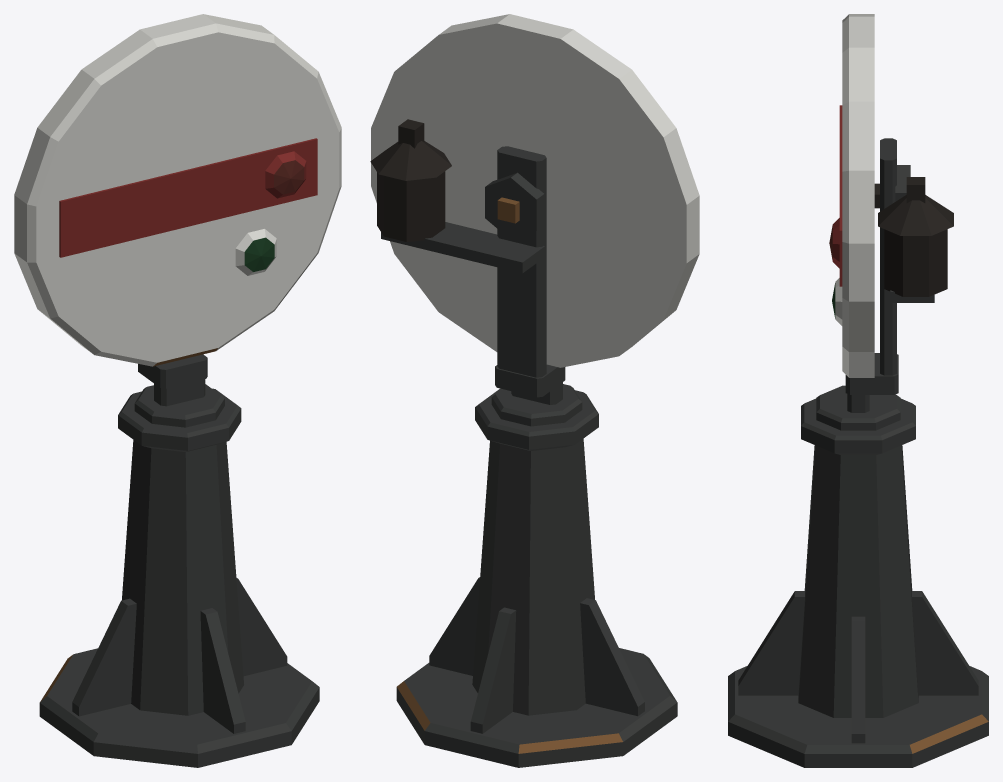
Rendered from ground-disc-signal.glb.
3 renders of one model, left to right at view 1: azimuth 30°, elevation 25°; view 2: azimuth 150°, elevation 25°; view 3: azimuth 270°, elevation 25°, orthographic.
Parts seen in each view (by area): view 1: disc-plate, pedestal; view 2: pedestal, disc-plate; view 3: pedestal, disc-plate.
Part boxes in pixels (x1=…): disc-plate: x1=14, y1=14, x2=341, y2=366; pedestal: x1=39, y1=354, x2=319, y2=767; pedestal: x1=370, y1=119, x2=677, y2=767; disc-plate: x1=371, y1=14, x2=699, y2=367; pedestal: x1=728, y1=138, x2=988, y2=767; disc-plate: x1=829, y1=14, x2=879, y2=377.
Bounding box in the file's own units: 0.4234 × 0.8757 × 0.304.
